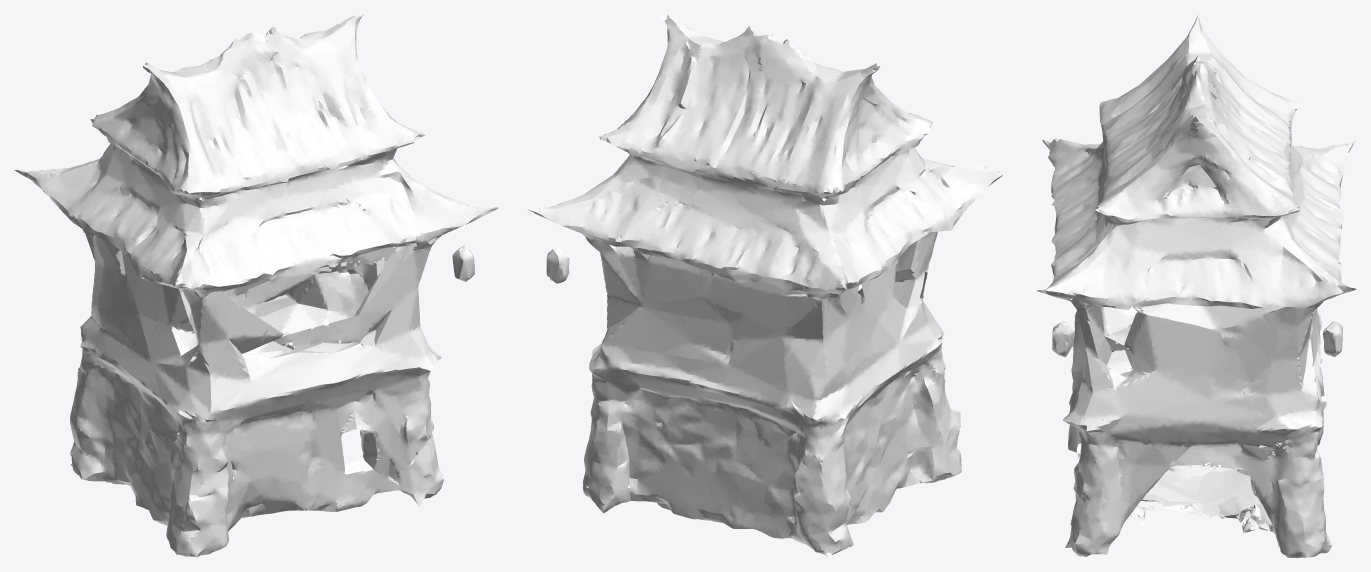
The model's file is house_two_a.glb.
3 renders of one model, left to right at view 1: azimuth 30°, elevation 25°; view 2: azimuth 150°, elevation 25°; view 3: azimuth 270°, elevation 25°, orthographic. The views are drawn at different scales.
Parts seen in each view (by area): view 1: output_unwrapped; view 2: output_unwrapped; view 3: output_unwrapped.
Part boxes in pixels (box(x1,y1,x2,y2)): output_unwrapped: box(14, 14, 498, 557); output_unwrapped: box(527, 14, 1008, 557); output_unwrapped: box(1037, 15, 1356, 557).
Size of the model in its own units: 7.67 by 10.5 by 6.76.
1 material, 1 textured.
